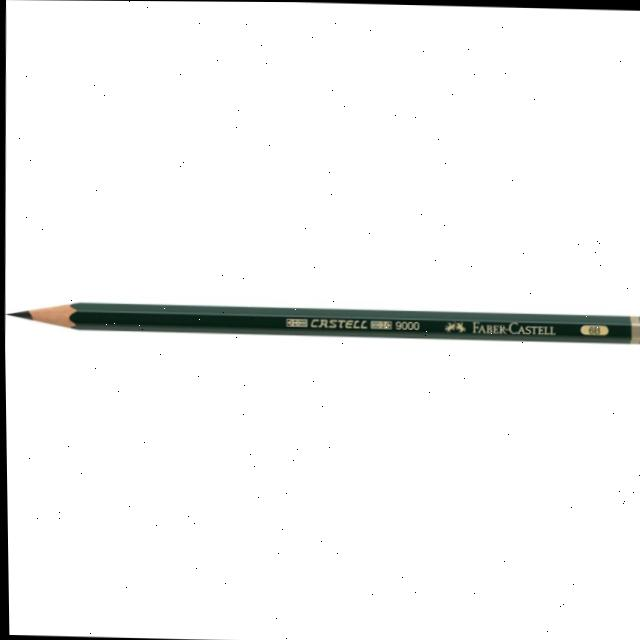pencil: (6, 296, 640, 341)
